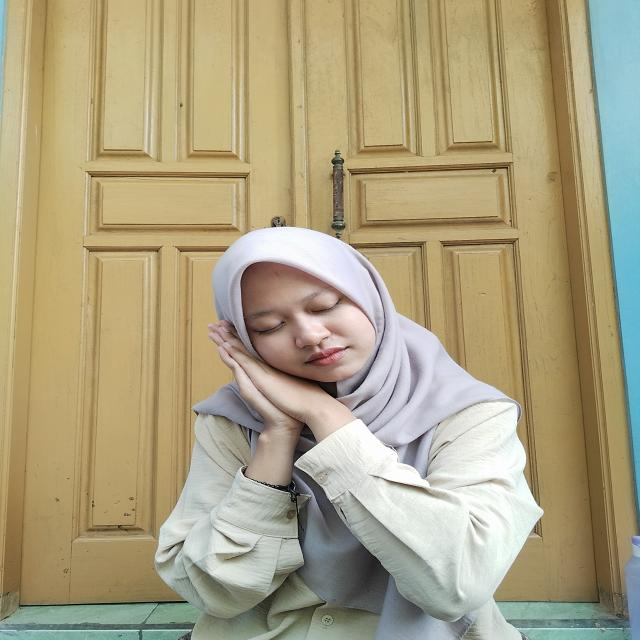tidur: (192, 317, 378, 509)
